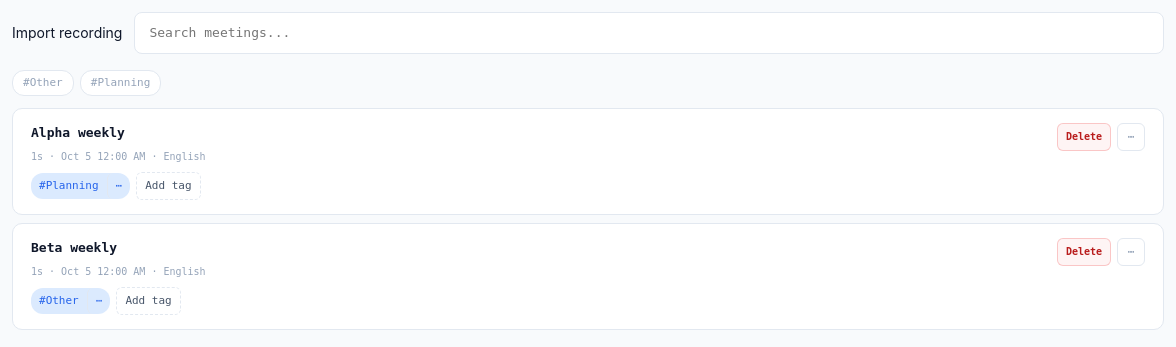
Test case: renaming a filtered tag preserves the matching meetings and text search
The width and height of the screenshot is (1176, 347).
Step 1. Type "weekly" into the search field with placeholder "Search meetings..." → (649,33), box [134, 12, 1164, 54]
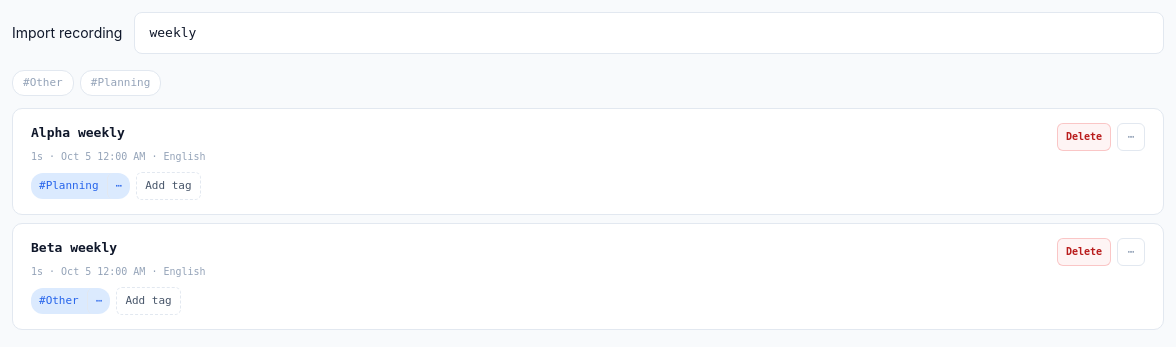
Step 2. Click the button with aria-label "Filter by Planning" → (69,186), box [31, 172, 107, 199]
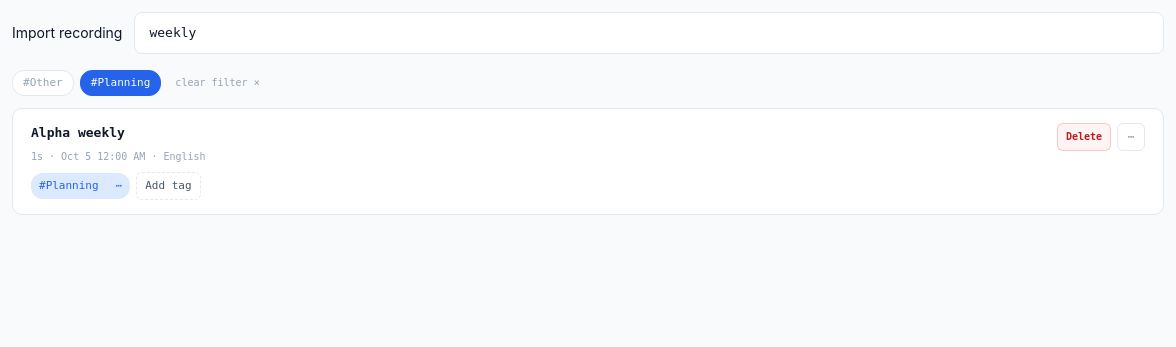
Now the text "Beta weekly" is gone
Step 3. Click the button named "Tag actions for Planning" → (118,186), box [107, 172, 130, 199]
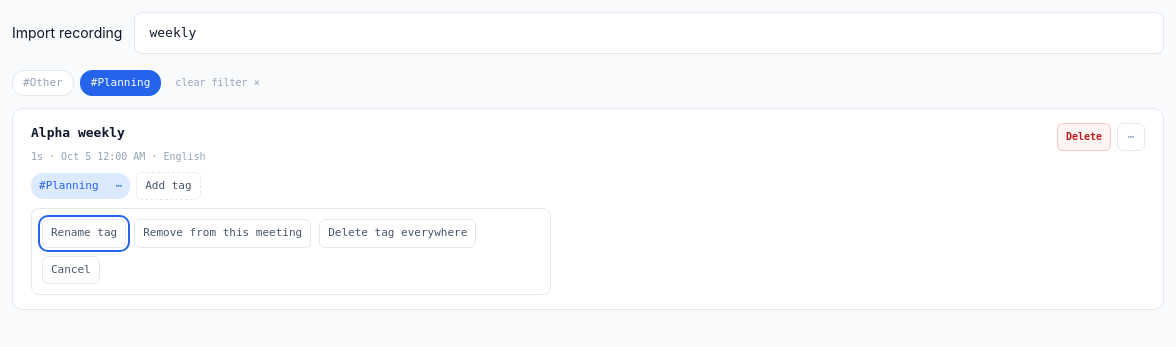
Step 4. Click the button "Rename tag" → (84,233), box [42, 219, 126, 248]
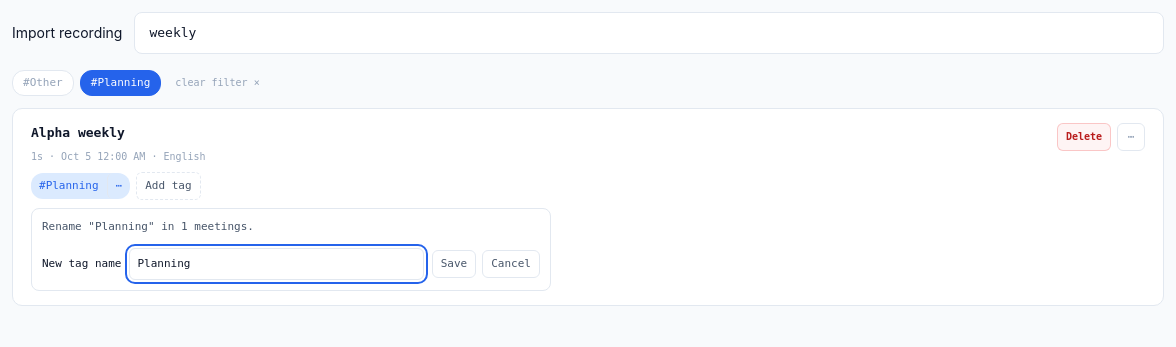
Step 5. Replace the text in the field labelled "New tag name" with "Renamed" → (277,264), box [130, 248, 424, 280]
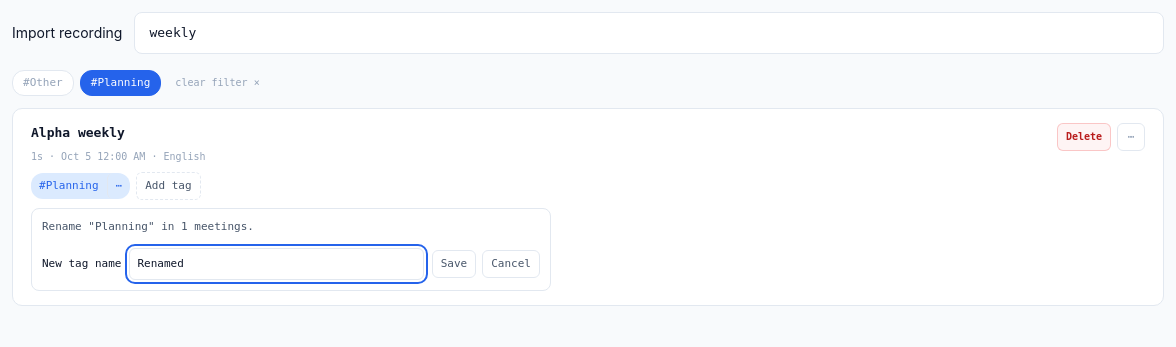
Step 6. Click the button "Save" → (454,264), box [432, 250, 476, 278]
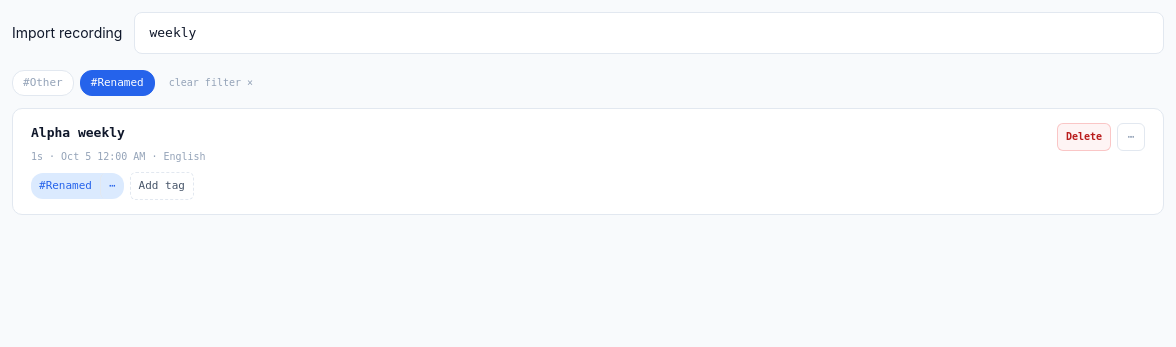
Expected: the text "Alpha weekly" is shown, [31, 125, 125, 140]
Now the button with aria-label "Filter by Renamed" is shown, box [31, 172, 100, 199]
